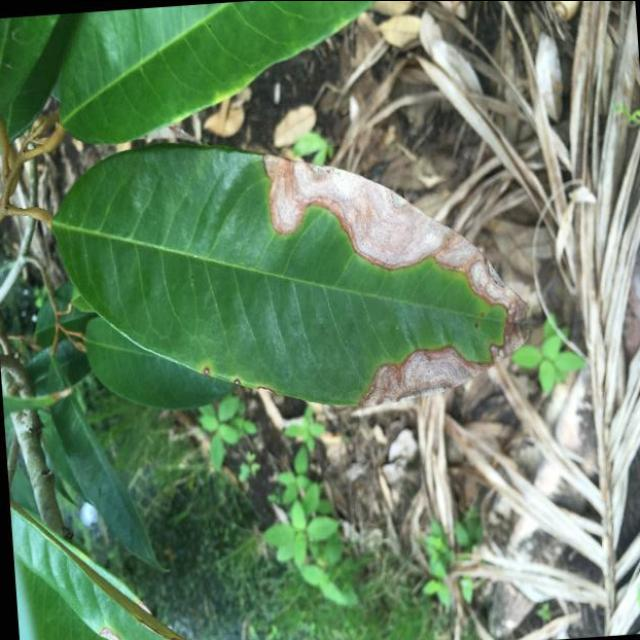Leaf Blight: (37, 110, 563, 440)
